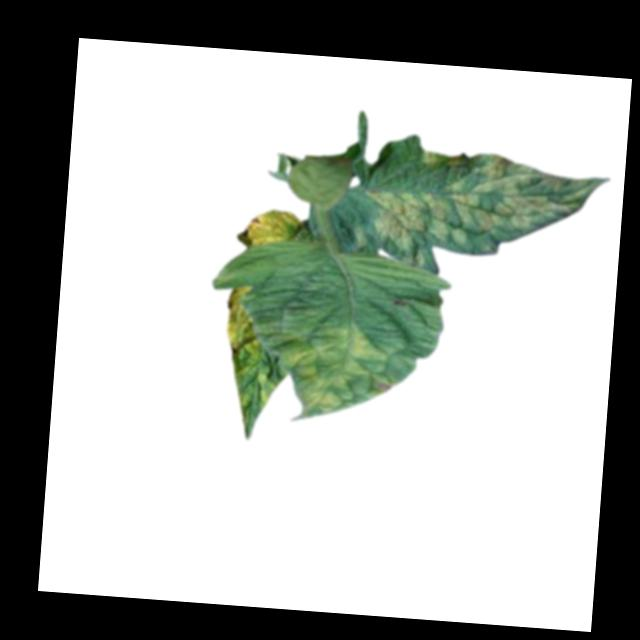Leaf_Mold: (370, 143, 612, 279), (276, 320, 396, 423), (221, 281, 264, 358), (237, 208, 303, 253)
